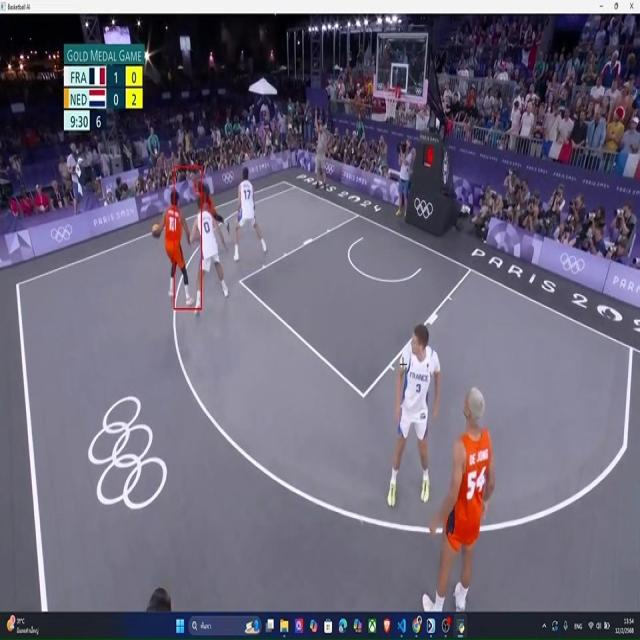basketball: (152, 222, 162, 242)
hoop: (382, 83, 399, 119)
